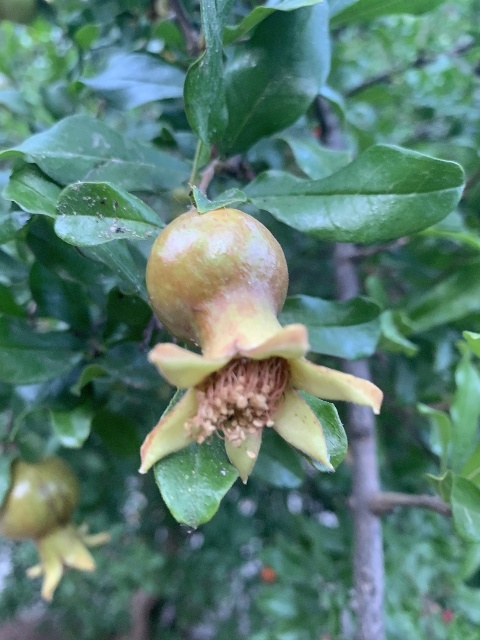early-fruit: (136, 206, 384, 484)
mid-growth: (0, 453, 109, 602)
